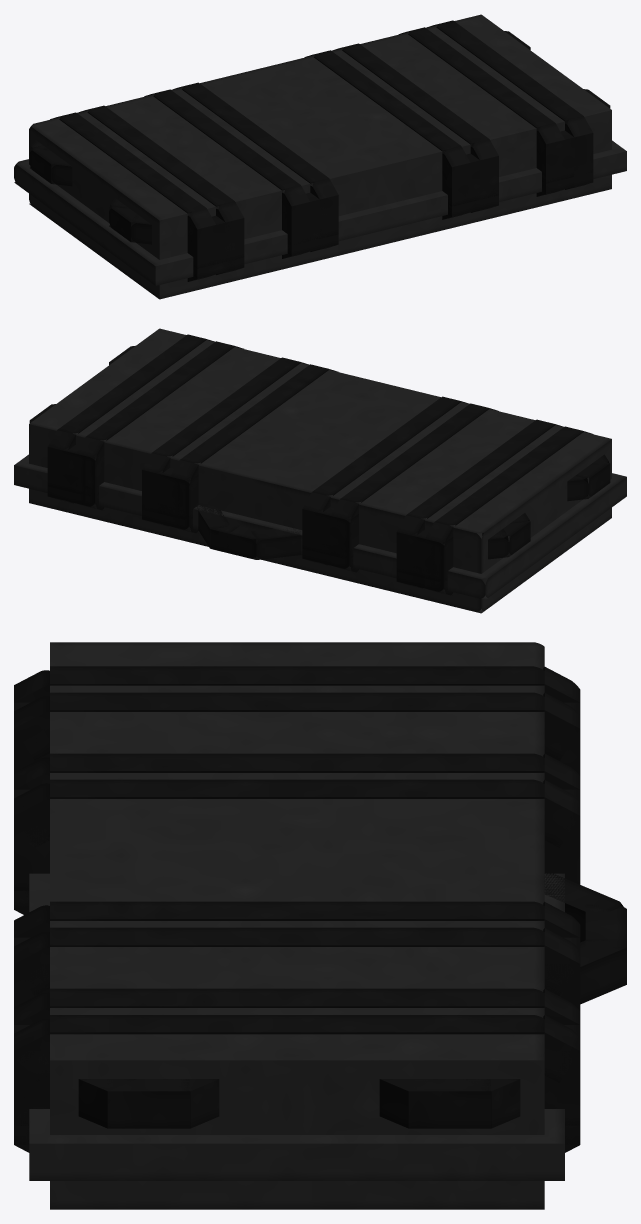
The model's file is ammo_crate.obj.
The picture shows the model from 3 angles, top to bottom: view 1: azimuth 30°, elevation 25°; view 2: azimuth 150°, elevation 25°; view 3: azimuth 270°, elevation 25°; orthographic projection. The views are drawn at different scales.
Visible parts, largest first — view 1: nx, ny, pb, pd, pe, pc, pf, pg, pi, ph, ow, oN (+21 smaller); view 2: nx, ny, pf, pd, ph, pe, pi, pb, pc, pg, nR, or (+24 smaller); view 3: nx, ny, pb, pf, pg, ph, pd, pi, pc, pe, nI, nG (+29 smaller).
Part boxes in pixels (box(x1,y1,x2,y2)): nx: box(29, 14, 611, 299); ny: box(14, 140, 626, 285); pb: box(436, 20, 583, 124); pd: box(314, 50, 460, 154); pe: box(342, 43, 488, 147); pc: box(408, 27, 554, 131); pf: box(59, 112, 205, 216); pg: box(87, 105, 234, 209); pi: box(182, 82, 328, 185); ph: box(153, 89, 300, 192); ow: box(187, 215, 234, 268); oN: box(442, 153, 489, 206); nx: box(29, 328, 611, 613); ny: box(14, 454, 626, 599); pf: box(435, 426, 583, 543); pd: box(180, 364, 329, 480); ph: box(340, 403, 489, 520); pe: box(152, 357, 300, 456); pi: box(312, 396, 461, 495); pb: box(57, 334, 206, 433); pc: box(86, 341, 234, 440); pg: box(406, 419, 555, 518); nR: box(47, 444, 94, 494); or: box(142, 467, 189, 516); nx: box(50, 642, 544, 1209); ny: box(29, 873, 564, 1180); pb: box(50, 1015, 544, 1034); pf: box(50, 666, 544, 685); pg: box(50, 692, 544, 711); ph: box(50, 753, 544, 772); pd: box(50, 901, 544, 920); pi: box(50, 779, 544, 798); pc: box(50, 988, 544, 1007); pe: box(50, 927, 544, 946); nI: box(408, 1079, 490, 1128); nG: box(107, 1079, 189, 1128).
Size of the model in its own units: 1.59 by 0.2531 by 0.9294.
Materials: 1 (1 with a texture image).
